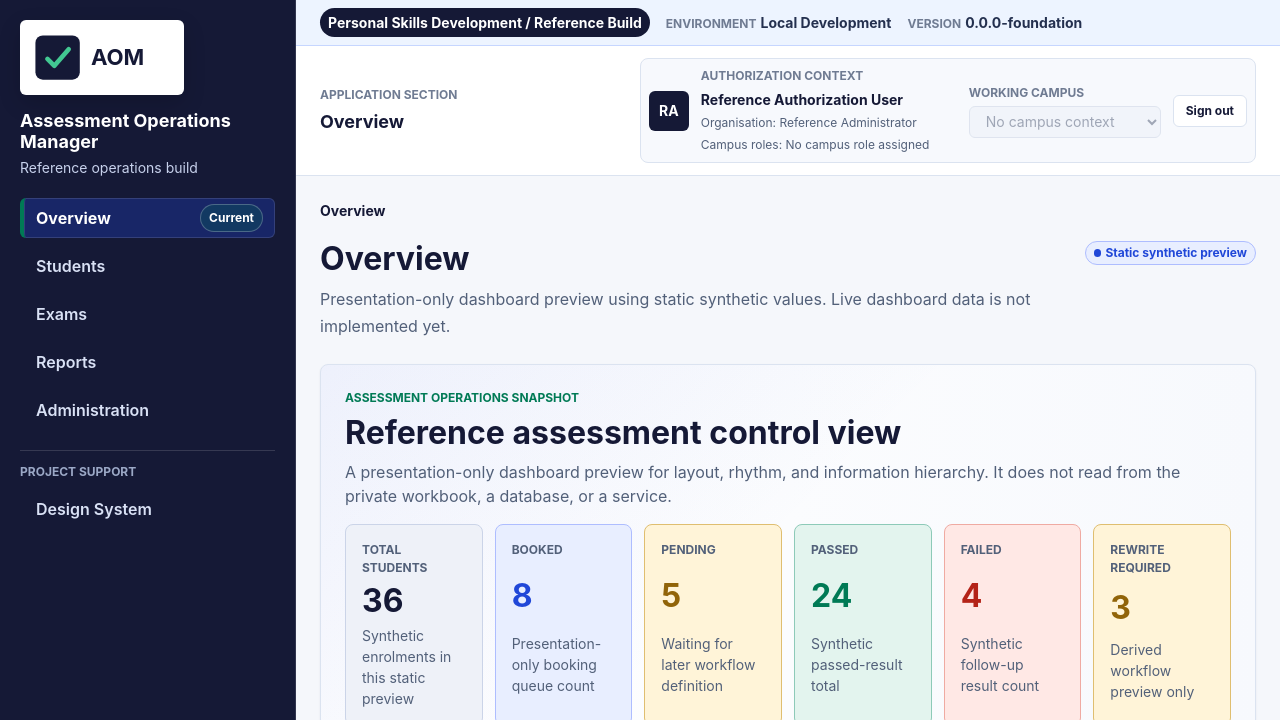
Test: application routing foundation › does not fake sign-out success when Supabase sign-out fails
Expected: the heading "Overview" is shown, [320, 239, 470, 278]
Click the button "Sign out" at {"x": 1210, "y": 110}, box [1173, 94, 1247, 126]
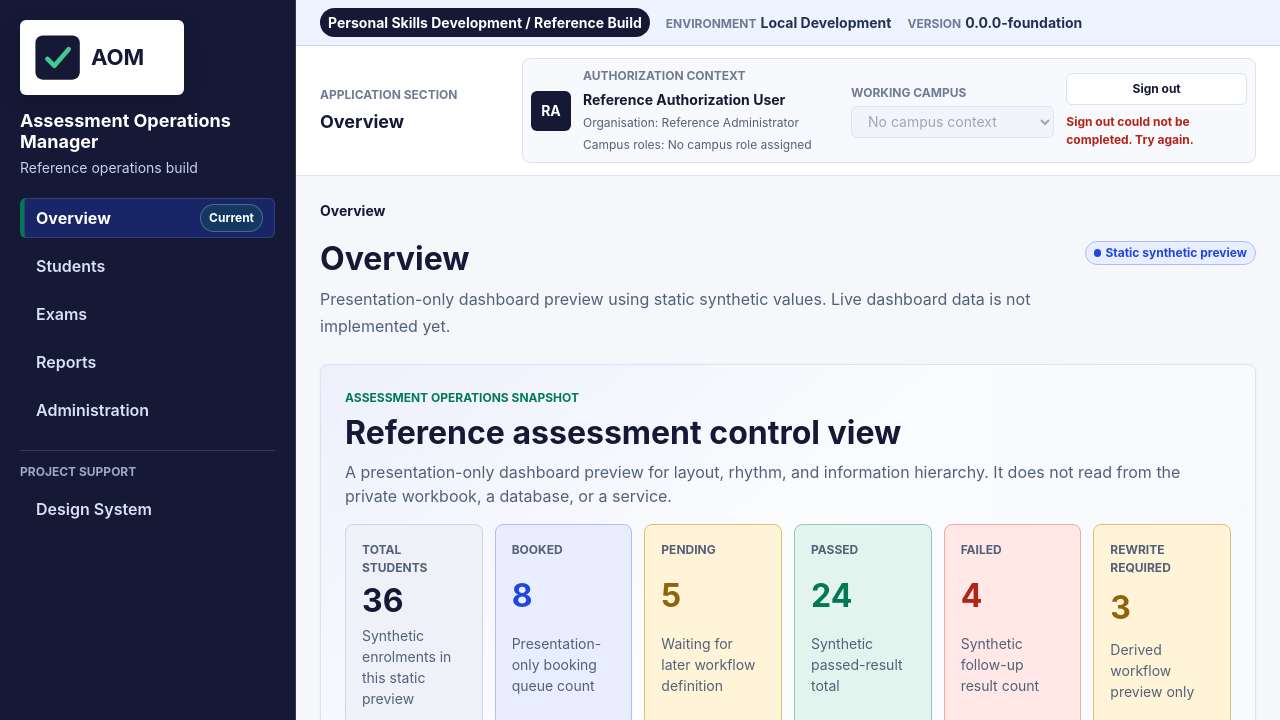
Expected: the heading "Overview" is shown, [320, 239, 470, 278]
Now the message reads "Sign out could not be completed. Try again.", box [1066, 114, 1194, 146]
